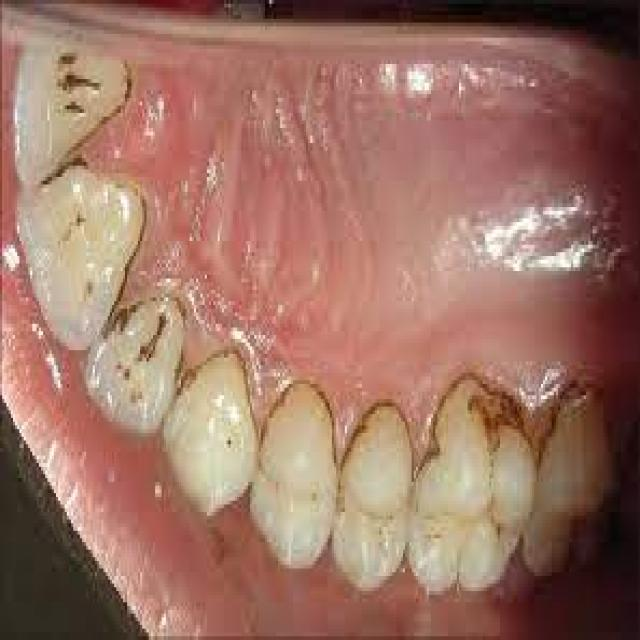Tooth Discoloration: (31, 26, 594, 516)
